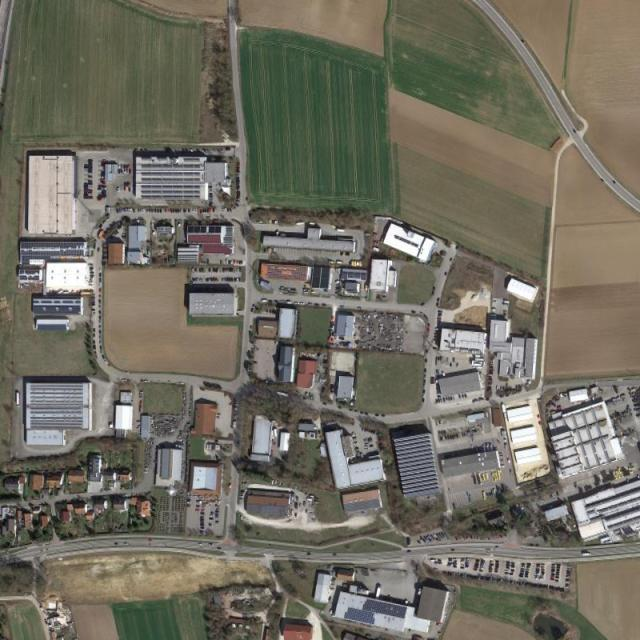vehicle: (17, 392, 21, 407), (582, 552, 592, 556), (263, 300, 269, 302), (218, 547, 222, 550), (114, 543, 118, 546), (124, 543, 129, 545)
